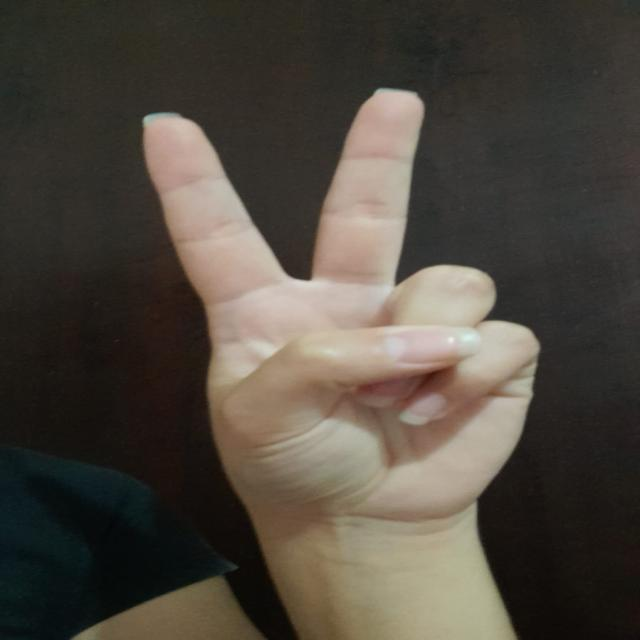V: (118, 78, 544, 520)
